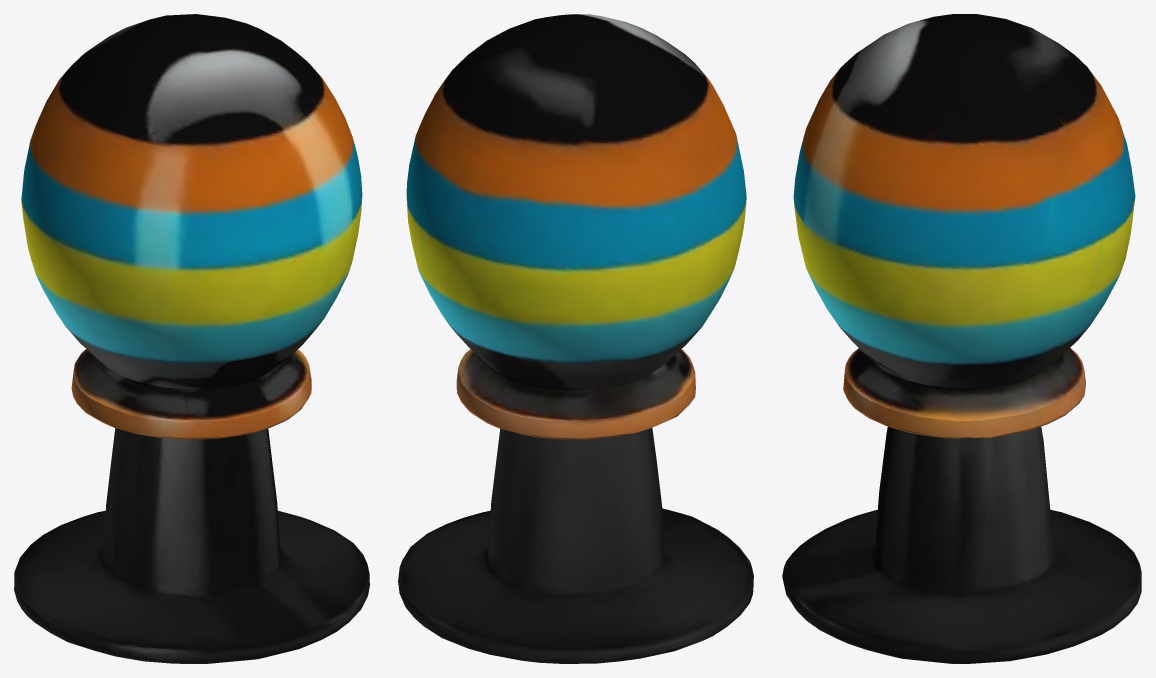
The model's file is m2BumperPostV2.glb.
3 views of the same model, side by side, from view 1: azimuth 30°, elevation 25°; view 2: azimuth 150°, elevation 25°; view 3: azimuth 270°, elevation 25° (orthographic).
Visible parts, largest first — view 1: model; view 2: model; view 3: model.
Part boxes in pixels (box(x1,y1,x2,y2)): model: box(14, 14, 369, 663); model: box(398, 14, 753, 663); model: box(782, 14, 1141, 663).
Size of the model in its own units: 1.08 by 1.89 by 1.09.
Materials: 1 (1 with a texture image).
